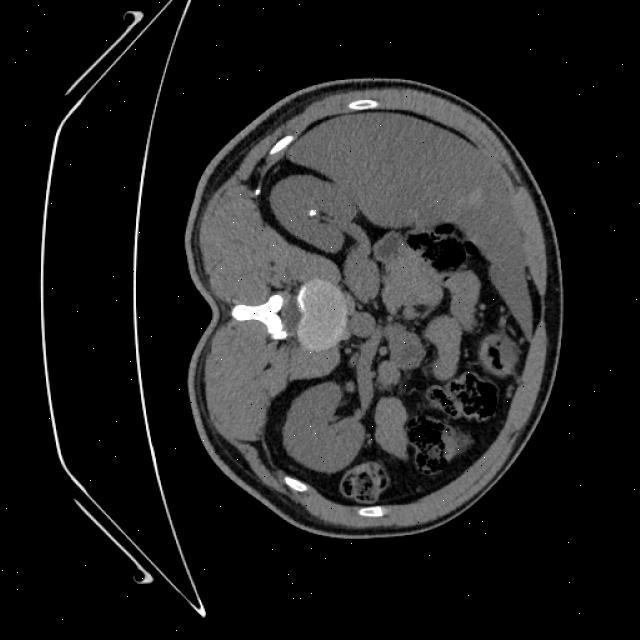kidneystone: (308, 210, 316, 218)
